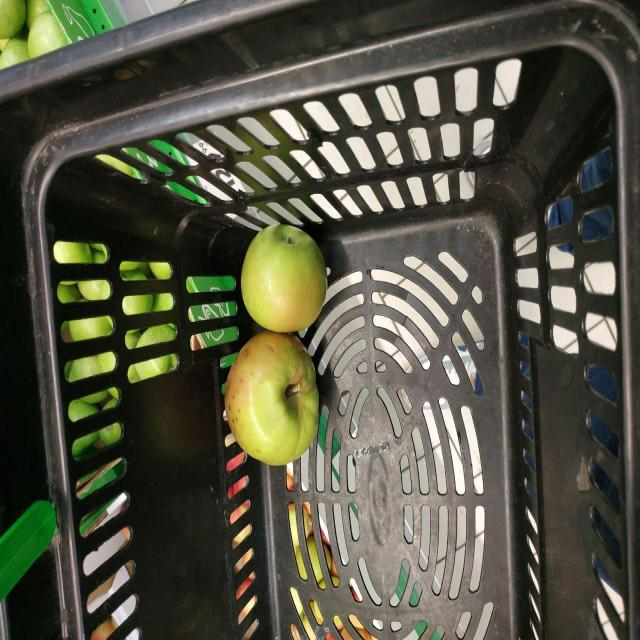Apple: (225, 334, 318, 465), (240, 224, 326, 332)
